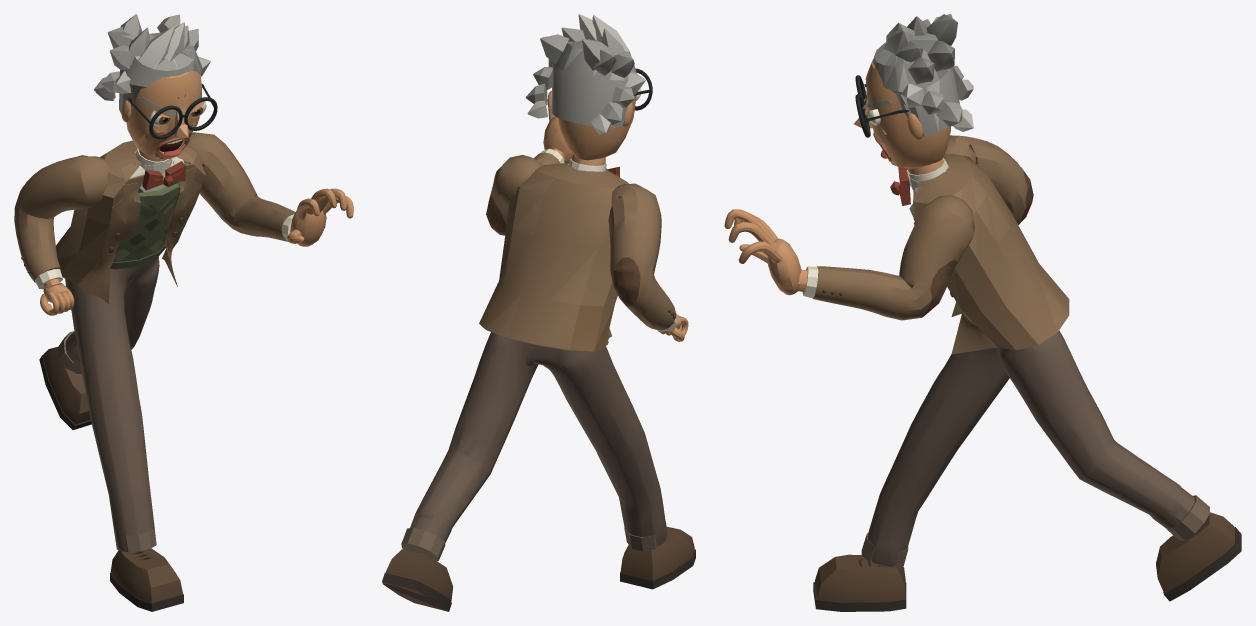
Rendered from angry-professor.glb.
The picture shows the model from 3 angles, left to right: view 1: azimuth 30°, elevation 25°; view 2: azimuth 150°, elevation 25°; view 3: azimuth 270°, elevation 25°; orthographic projection. The views are drawn at different scales.
Visible parts, largest first — view 1: Right hand | continuous skin; view 2: Right hand | continuous skin; view 3: Right hand | continuous skin.
Part boxes in pixels (x1,y1,x2,y2): Right hand | continuous skin: (14, 14, 353, 611); Right hand | continuous skin: (382, 14, 695, 611); Right hand | continuous skin: (724, 14, 1241, 611).
Size of the model in its own units: 0.8 by 1.85 by 1.44.
